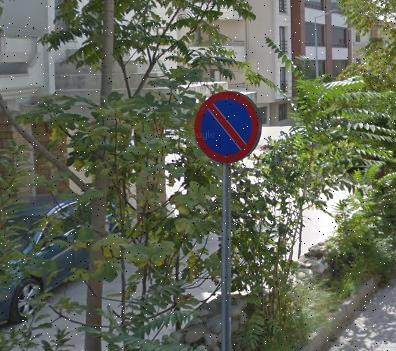nopark: (196, 90, 260, 162)
